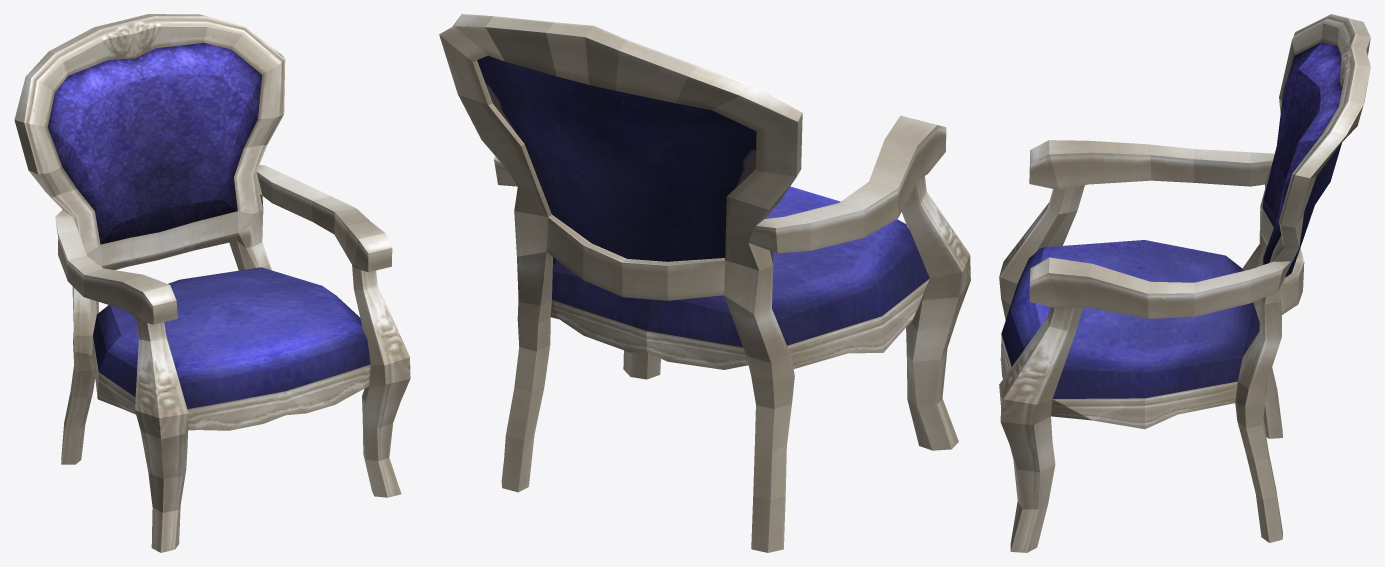
The model's file is furni_0201111.FBX.
3 renders of one model, left to right at view 1: azimuth 30°, elevation 25°; view 2: azimuth 150°, elevation 25°; view 3: azimuth 270°, elevation 25°, orthographic. The views are drawn at different scales.
Parts seen in each view (by area): view 1: furni_0201111; view 2: furni_0201111; view 3: furni_0201111.
Boxes of the visible parts, <box> form: furni_0201111: <box>14,14,410,552</box>; furni_0201111: <box>439,14,970,552</box>; furni_0201111: <box>999,14,1370,552</box>.
Size of the model in its own units: 74.31 by 102 by 78.08.
Materials: 1 (1 with a texture image).
